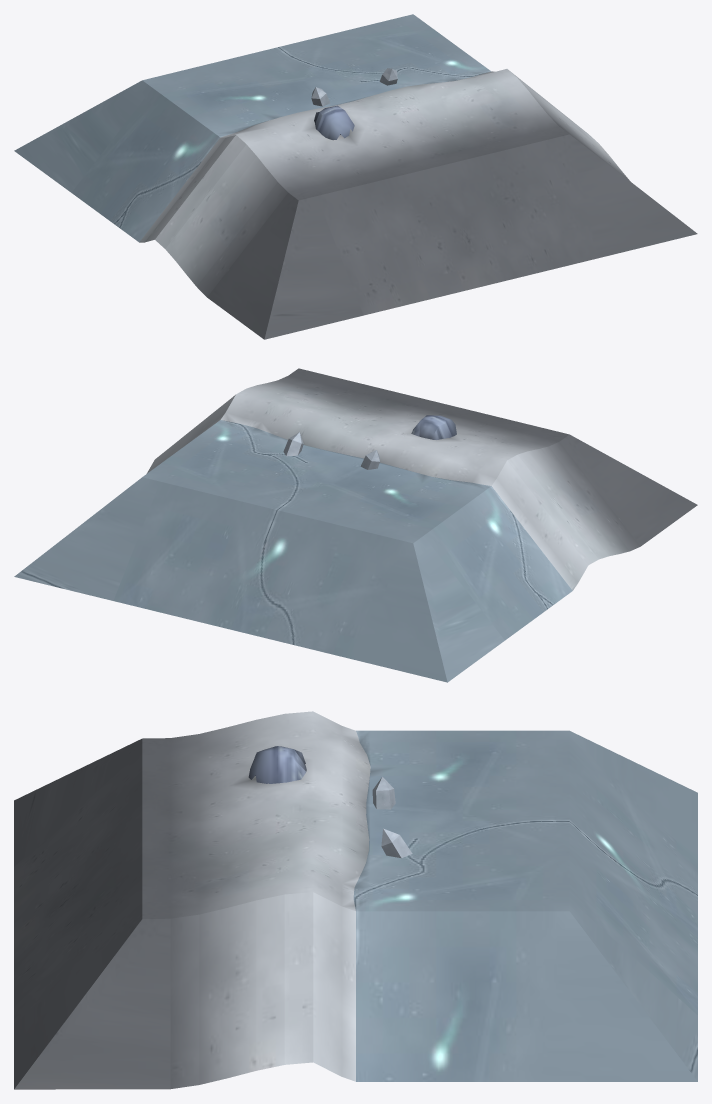
Rendered from helheim_gjoll_edge_b.glb.
3 views of the same model, one above another, from view 1: azimuth 30°, elevation 25°; view 2: azimuth 150°, elevation 25°; view 3: azimuth 270°, elevation 25° (orthographic). The views are drawn at different scales.
Visible parts, largest first — view 1: helheim_gjoll_edge_b; view 2: helheim_gjoll_edge_b; view 3: helheim_gjoll_edge_b.
Boxes of the visible parts, left/top/right/bottom form: helheim_gjoll_edge_b: left=14, top=14, right=697, bottom=339; helheim_gjoll_edge_b: left=14, top=368, right=697, bottom=682; helheim_gjoll_edge_b: left=14, top=711, right=697, bottom=1089.
Bounding box in the file's own units: 1.6 × 0.4188 × 1.6.
Materials: 4 (4 with a texture image).
